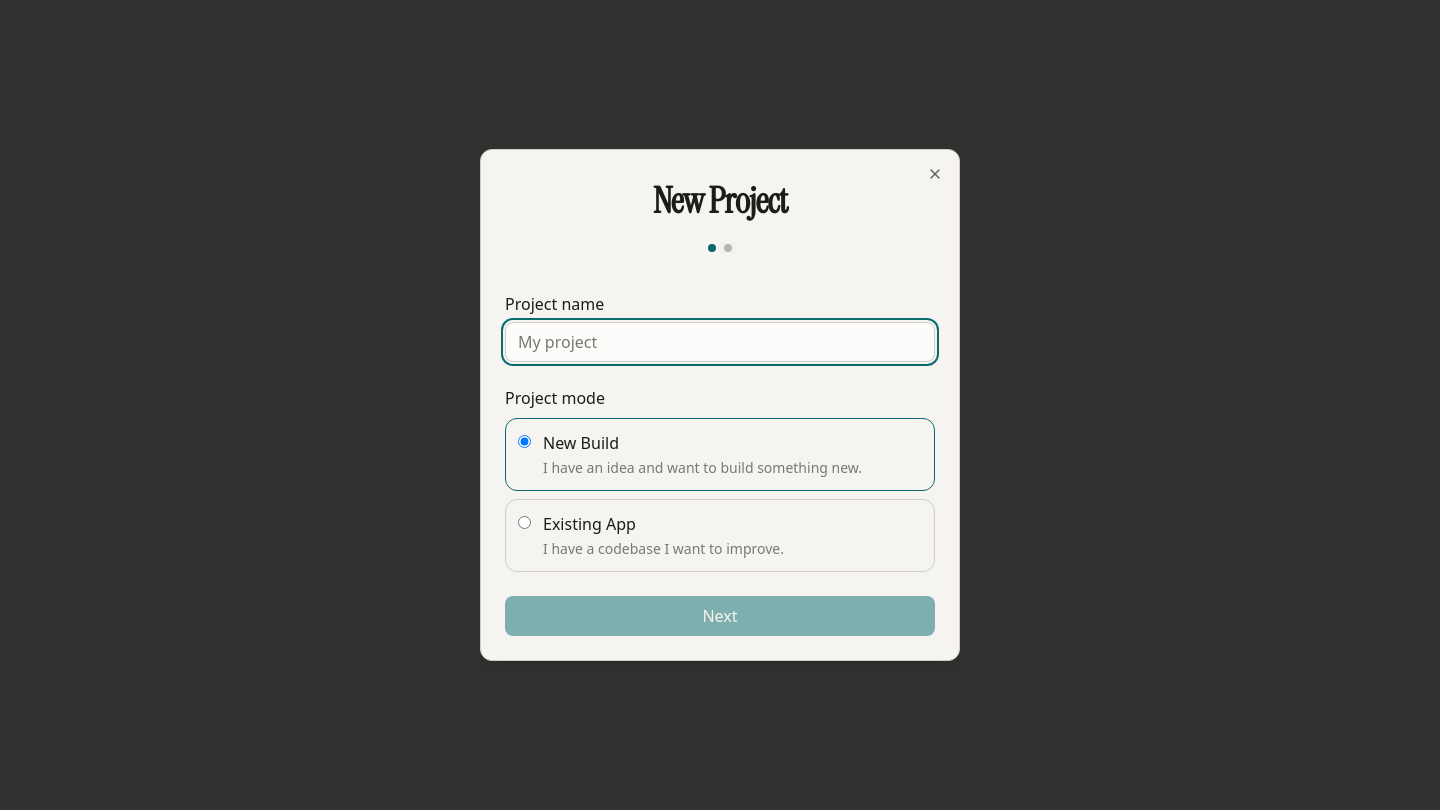
Test: NewProjectDialog › shows path validation error for relative path
In the field with placeholder "My project": (720, 342) [505, 322, 935, 362], type "Test"
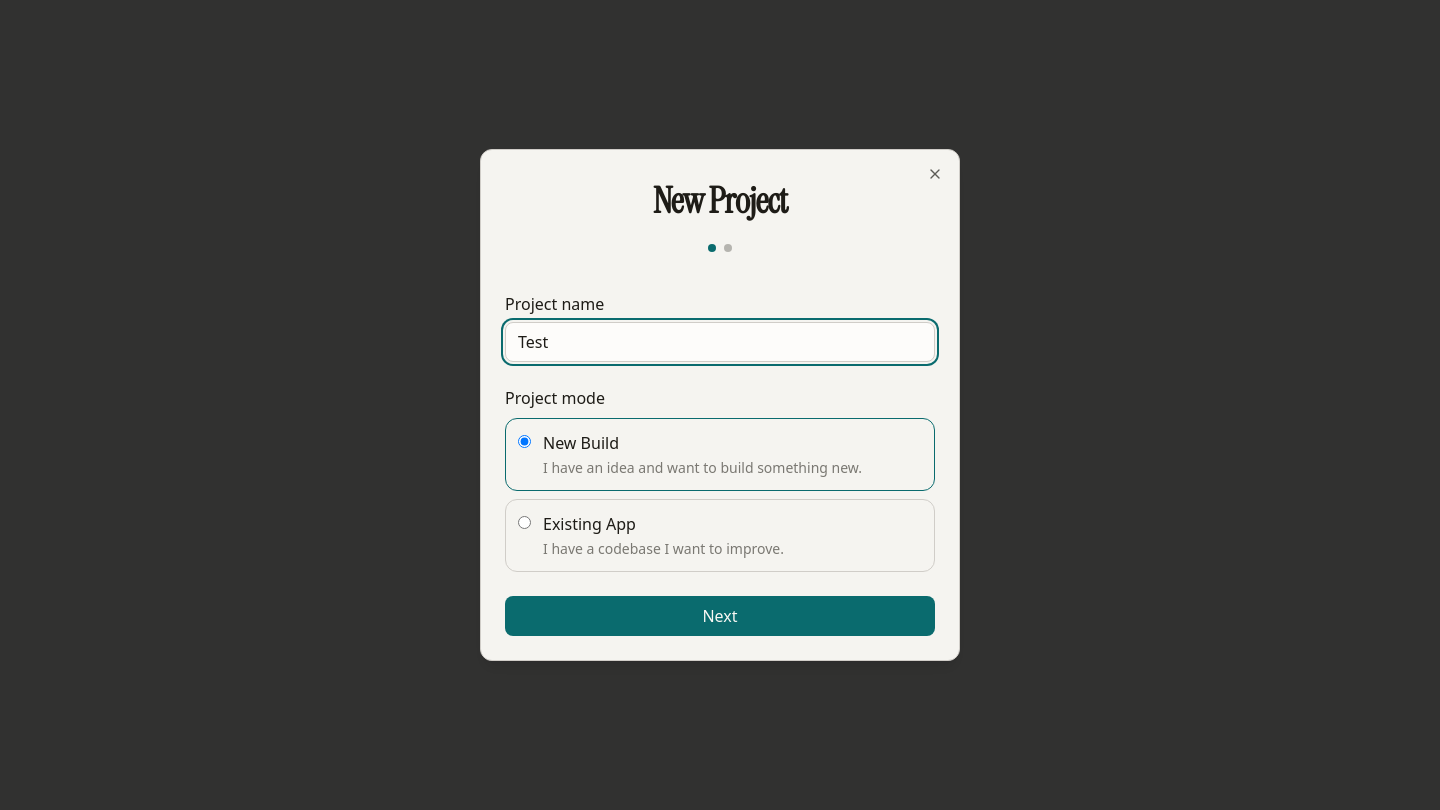
Click the button "Next": (720, 616) [505, 596, 935, 636]
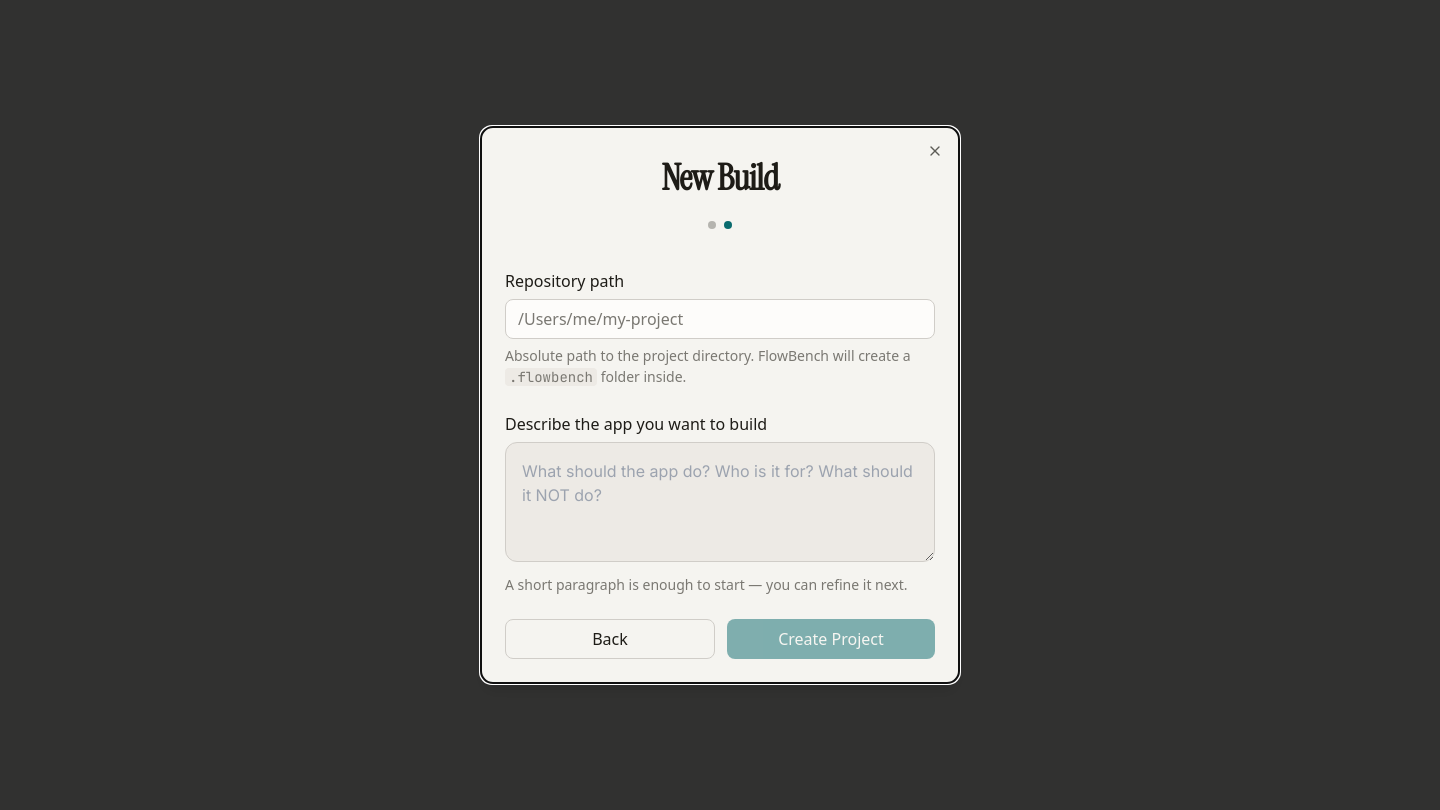
In the field with placeholder "/Users/me/my-project": (720, 319) [505, 299, 935, 339], type "relative/path"
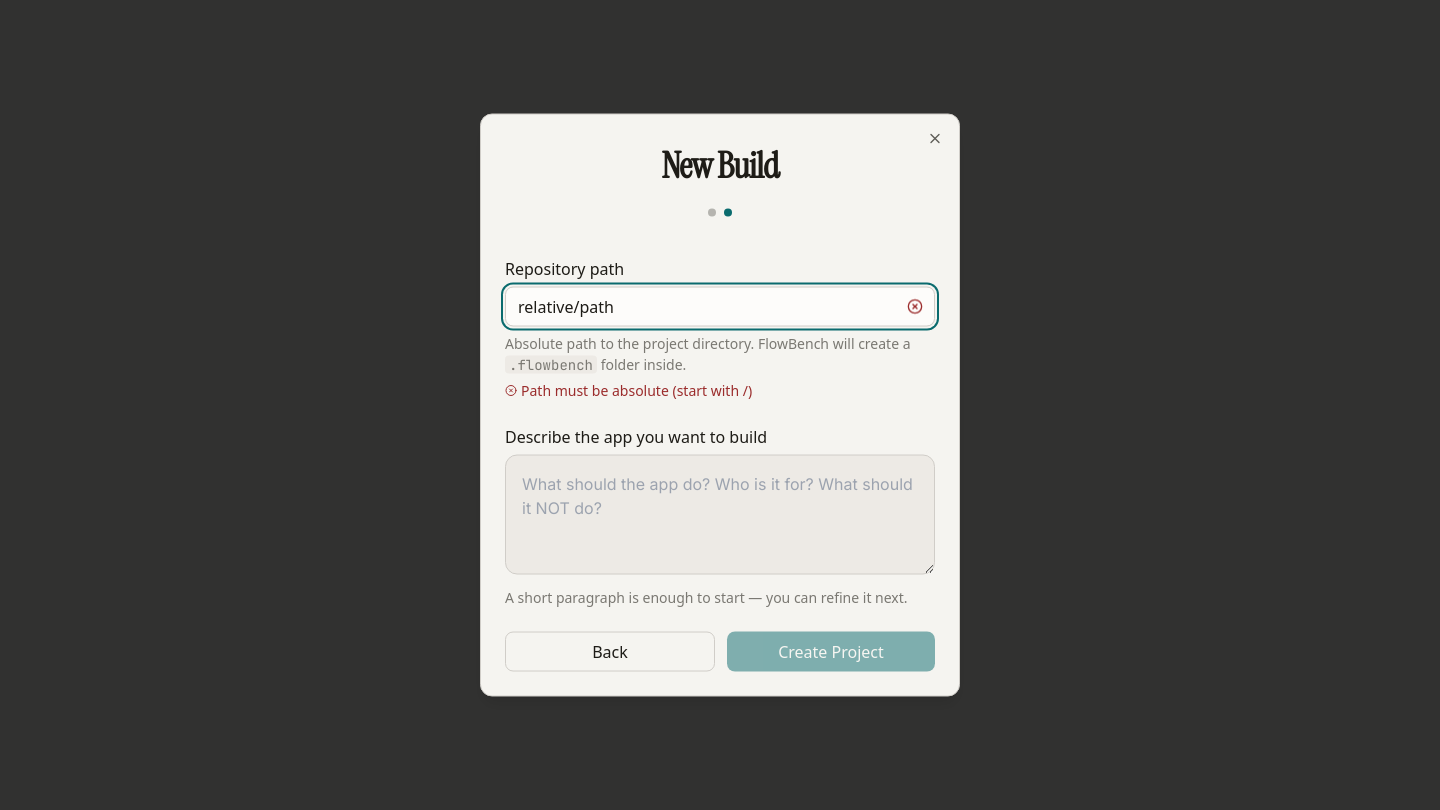
Now the text "Path must be absolute (start with /)" is shown, box [505, 380, 752, 400]
